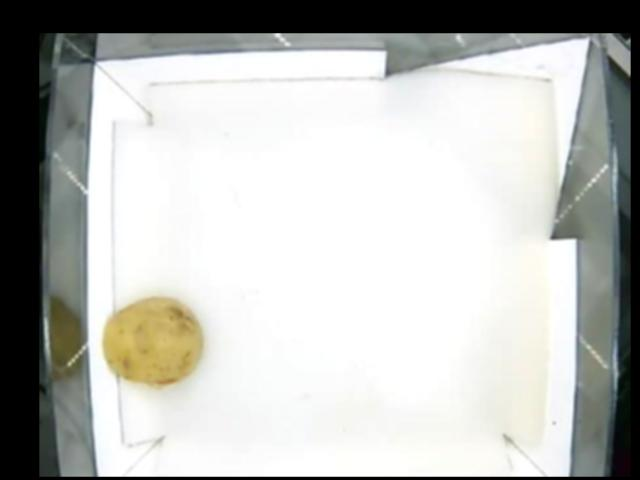Potato: (102, 295, 201, 388)
